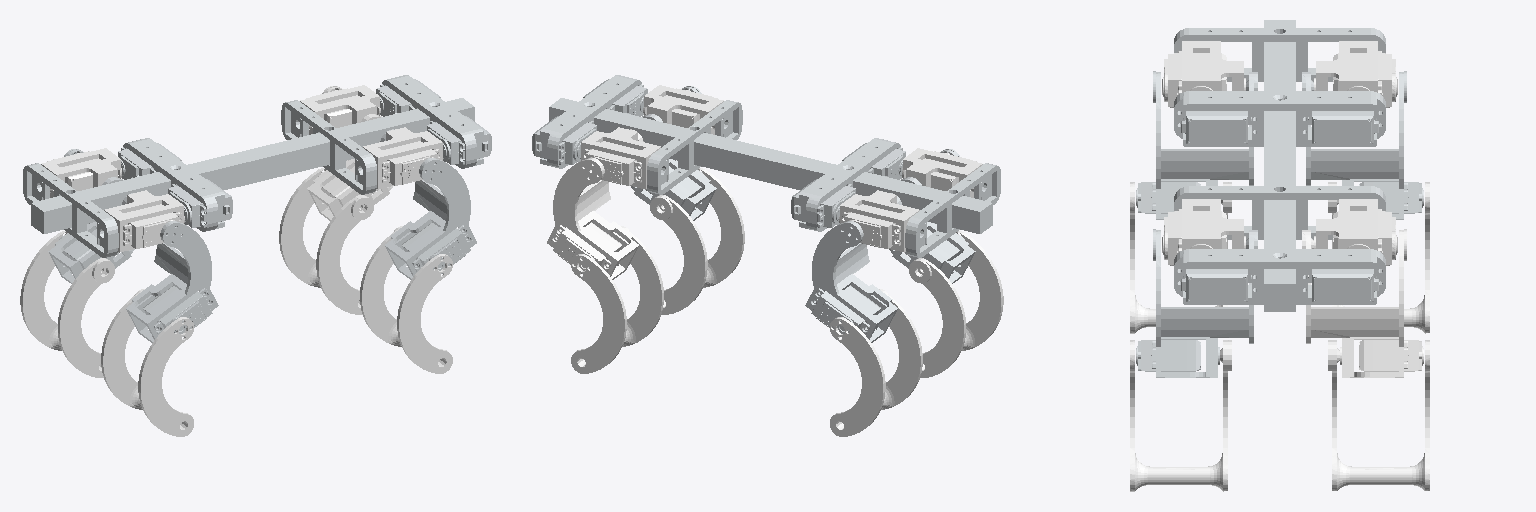
URDF robot description (tiny_quad):
<?xml version="1.0" encoding="utf-8"?>
<!-- This URDF was automatically created by SolidWorks to URDF Exporter! Originally created by [author] ([email redacted]) 
     Commit Version: 1.6.0-1-g15f4949  Build Version: 1.6.7594.29634
     For more information, please see http://wiki.ros.org/sw_urdf_exporter -->



<!-- TODO: Align each leg's joints at y plane for kinematics calculation -->
<robot
  name="tiny_quad">
  <link name="base_footprint" >
    <origin xyz="0.0103120639734149 3.57028601323102E-12 -5.09987831894361E-06" rpy="0 0 0"/>
  </link>
  <link
    name="base_link">
    <inertial>
      <origin
        xyz="0.0103120639734149 3.57028601323102E-12 -5.09987831894361E-06"
        rpy="0 0 0" />
      <mass
        value="0.673746391598589" />
      <inertia
        ixx="0.000240394302807336"
        ixy="4.72346918508225E-15"
        ixz="1.34348270128604E-09"
        iyy="0.00581273765980766"
        iyz="5.80749294518212E-10"
        izz="0.00598610621622578" />
    </inertial>
    <visual>
      <origin
        xyz="0 0 0"
        rpy="0 0 0" />
      <geometry>
        <mesh
          filename="package://tiny_quad/meshes/base_link.STL" />
      </geometry>
      <material
        name="">
        <color
          rgba="0.898039215686275 0.917647058823529 0.929411764705882 1" />
      </material>
    </visual>
    <collision>
      <origin
        xyz="0 0 0"
        rpy="0 0 0" />
      <geometry>
        <mesh
          filename="package://tiny_quad/meshes/base_link.STL" />
      </geometry>
    </collision>
  </link>
  <joint name="base_joint" type="fixed" >
    <origin xyz="0 0 0" rpy="0 0 0" />
    <parent link="base_footprint" />
    <child link="base_link" />
  </joint>
  
  <link
    name="LFS_L">
    <inertial>
      <origin
        xyz="-0.046748 -0.00092972 6.6559E-07"
        rpy="0 0 0" />
      <mass
        value="0.057684" />
      <inertia
        ixx="9.7817E-06"
        ixy="5.1255E-07"
        ixz="1.4506E-10"
        iyy="1.4627E-05"
        iyz="-7.3251E-10"
        izz="1.8457E-05" />
    </inertial>
    <visual>
      <origin
        xyz="0 0 0"
        rpy="0 0 0" />
      <geometry>
        <mesh
          filename="package://tiny_quad/meshes/LFS_L.STL" />
      </geometry>
      <material
        name="">
        <color
          rgba="1 1 1 1" />
      </material>
    </visual>
    <collision>
      <origin
        xyz="0 0 0"
        rpy="0 0 0" />
      <geometry>
        <mesh
          filename="package://tiny_quad/meshes/LFS_L.STL" />
      </geometry>
    </collision>
  </link>
  <joint
    name="LFS_J"
    type="revolute">
    <origin
      xyz="0.15711 0.050443 0"
      rpy="0 0 0" />
    <parent
      link="base_link" />
    <child
      link="LFS_L" />
    <axis
      xyz="1 0 0" />
    <limit
      lower="0"
      upper="1.5708"
      effort="1.0787315"
      velocity="7.48" />
  </joint>
  <link
    name="LFU_L">
    <inertial>
      <origin
        xyz="0.00956780740114901 -0.00266058763780398 -0.0619406808382107"
        rpy="0 0 0" />
      <mass
        value="0.0633248586799827" />
      <inertia
        ixx="4.22733905580439E-05"
        ixy="-3.31314885518861E-08"
        ixz="-4.35470998953999E-06"
        iyy="3.42993494529219E-05"
        iyz="4.30780434477683E-06"
        izz="2.75949415936944E-05" />
    </inertial>
    <visual>
      <origin
        xyz="0 0.01375 0"
        rpy="0 0 0" />
      <geometry>
        <mesh
          filename="package://tiny_quad/meshes/LFU_L.STL" />
      </geometry>
      <material
        name="">
        <color
          rgba="1 1 1 1" />
      </material>
    </visual>
    <collision>
      <origin
        xyz="0 0.01375 0"
        rpy="0 0 0" />
      <geometry>
        <mesh
          filename="package://tiny_quad/meshes/LFU_L.STL" />
      </geometry>
    </collision>
  </link>

  <joint
    name="LFU_J"
    type="revolute">
    <origin
      xyz="-0.037107 0 0"
      rpy="0 0 0" />
    <parent
      link="LFS_L" />
    <child
      link="LFU_L" />
    <axis
      xyz="0 -1 0" />
    <limit
      lower="-1"
      upper="0"
      effort="1.0787315"
      velocity="7.48" />
    <!--mimic
      joint="LFS_J"
      multiplier="1"
      offset="0" /-->
  </joint>

  <link
    name="LFL_L">
    <inertial>
      <origin
        xyz="-0.0126991843001295 -0.0150723539446907 -0.0467923508835542"
        rpy="0 0 0" />
      <mass
        value="0.0247326277403109" />
      <inertia
        ixx="4.21435291889056E-05"
        ixy="4.52141590599905E-07"
        ixz="2.40966499667341E-06"
        iyy="2.82129703259535E-05"
        iyz="1.66567501013991E-06"
        izz="2.20436639521685E-05" />
    </inertial>
    <!-- <visual>
      <origin
        xyz="0 0.0305 0"
        rpy="0 0 0" />
      <geometry>
        <mesh
          filename="package://tiny_quad/meshes/LFL_L.STL" />
      </geometry>
      <material
        name="">
        <color
          rgba="1 1 1 1" />
      </material>
    </visual>
    <collision>
      <origin
        xyz="0 0.0305 0"
        rpy="0 0 0" />
      <geometry>
        <mesh
          filename="package://tiny_quad/meshes/LFL_L.STL" />
      </geometry>
    </collision> -->
  </link>
  <joint
    name="LFL_J"
    type="revolute">
    <origin
      xyz="0 0 -0.078388"
      rpy="0 0 0" />
    <parent
      link="LFU_L" />
    <child
      link="LFL_L" />
    <axis
      xyz="0 -1 0" />
    <limit
      lower="-1.1"
      upper="1.5708"
      effort="1.0787315"
      velocity="7.48" />
    <!--mimic
      joint="LFS_J"
      multiplier="1"
      offset="0" /-->
  </joint>
  <link
    name="LFC_L">
    <inertial>
      <origin
        xyz="-0.0137408449020781 -0.0295642372944374 0.0344451912255238"
        rpy="0 0 0" />
      <mass
        value="0.0228920746333247" />
      <inertia
        ixx="4.20984399971498E-05"
        ixy="4.52141590599904E-07"
        ixz="2.40966499667341E-06"
        iyy="2.81277626908271E-05"
        iyz="1.66567501013991E-06"
        izz="2.19985747604127E-05" />
    </inertial>
    <visual>
      <origin
        xyz="0 0.0425 0"
        rpy="0 0 0" />
      <geometry>
        <mesh
          filename="package://tiny_quad/meshes/LFC_L.STL" />
      </geometry>
      <material
        name="">
        <color
          rgba="1 1 1 1" />
      </material>
    </visual>
    <collision>
      <origin
        xyz="0 0.0425 0"
        rpy="0 0 0" />
      <geometry>
        <mesh
          filename="package://tiny_quad/meshes/LFC_L.STL" />
      </geometry>
    </collision>
  </link>
  <joint
    name="LFC_J"
    type="fixed">
    <origin
      xyz="2.0629E-05 0 -0.085"
      rpy="0 0 0" />
    <parent
      link="LFL_L" />
    <child
      link="LFC_L" />
    <axis
      xyz="0 0 0" />
  </joint>


  
  <link
    name="RFS_L">
    <inertial>
      <origin
        xyz="-0.0467477283228513 0.000929715895879799 -6.65623765903593E-07"
        rpy="0 0 0" />
      <mass
        value="0.0576835055796688" />
      <inertia
        ixx="9.78169162854162E-06"
        ixy="-5.12552767532585E-07"
        ixz="-1.45029050660471E-10"
        iyy="1.46267778399584E-05"
        iyz="-7.32538517650851E-10"
        izz="1.84573794225176E-05" />
    </inertial>
    <visual>
      <origin
        xyz="0 0 0"
        rpy="0 0 0" />
      <geometry>
        <mesh
          filename="package://tiny_quad/meshes/RFS_L.STL" />
      </geometry>
      <material
        name="">
        <color
          rgba="1 1 1 1" />
      </material>
    </visual>
    <collision>
      <origin
        xyz="0 0 0"
        rpy="0 0 0" />
      <geometry>
        <mesh
          filename="package://tiny_quad/meshes/RFS_L.STL" />
      </geometry>
    </collision>
  </link>
  <joint
    name="RFS_J"
    type="revolute">
    <origin
      xyz="0.15711 -0.050443 0"
      rpy="0 0 0" />
    <parent
      link="base_link" />
    <child
      link="RFS_L" />
    <axis
      xyz="1 0 0" />
    <limit
      lower="-1.5708"
      upper="0"
      effort="1.0787315"
      velocity="7.48" />
    <!--mimic
      joint="LFS_J"
      multiplier="1"
      offset="0" /-->
  </joint>
  <link
    name="RFU_L">
    <inertial>
      <origin
        xyz="0.00956728165308311 0.00266058760025918 -0.0619395881245908"
        rpy="0 0 0" />
      <mass
        value="0.0633248589124594" />
      <inertia
        ixx="4.22736181545519E-05"
        ixy="3.24961756510419E-08"
        ixz="-4.35489106692463E-06"
        iyy="3.42993499993469E-05"
        iyz="-4.30648406795787E-06"
        izz="2.75947147528143E-05" />
    </inertial>
    <visual>
      <origin
        xyz="0 -0.01375 0"
        rpy="0 0 0" />
      <geometry>
        <mesh
          filename="package://tiny_quad/meshes/RFU_L.STL" />
      </geometry>
      <material
        name="">
        <color
          rgba="0.898039215686275 0.917647058823529 0.929411764705882 1" />
      </material>
    </visual>
    <collision>
      <origin
        xyz="0 -0.01375 0"
        rpy="0 0 0" />
      <geometry>
        <mesh
          filename="package://tiny_quad/meshes/RFU_L.STL" />
      </geometry>
    </collision>
  </link>
  <joint
    name="RFU_J"
    type="revolute">
    <origin
      xyz="-0.037107 0 0"
      rpy="0 0 0" />
    <parent
      link="RFS_L" />
    <child
      link="RFU_L" />
    <axis
      xyz="0 1 0" />
    <limit
      lower="0"
      upper="1.1"
      effort="1.0787315"
      velocity="7.48" />
    <!--mimic
      joint="LFS_J"
      multiplier="1"
      offset="0" /-->
  </joint>
  <link
    name="RFL_L">
    <inertial>
      <origin
        xyz="-0.0127020493228516 0.0150724859124731 -0.0467927203950964"
        rpy="0 0 0" />
      <mass
        value="0.0247329300871079" />
      <inertia
        ixx="4.21439137772161E-05"
        ixy="-4.52171756192475E-07"
        ixz="2.4097951023571E-06"
        iyy="2.82133292880761E-05"
        iyz="-1.66560968972201E-06"
        izz="2.20437476815741E-05" />
    </inertial>
    <!-- <visual>
      <origin
        xyz="0 -0.0305 0"
        rpy="0 0 0" />
      <geometry>
        <mesh
          filename="package://tiny_quad/meshes/RFL_L.STL" />
      </geometry>
      <material
        name="">
        <color
          rgba="1 1 1 1" />
      </material>
    </visual>
    <collision>
      <origin
        xyz="0 -0.0305 0"
        rpy="0 0 0" />
      <geometry>
        <mesh
          filename="package://tiny_quad/meshes/RFL_L.STL" />
      </geometry>
    </collision> -->
  </link>
  <joint
    name="RFL_J"
    type="revolute">
    <origin
      xyz="0 0 -0.078391"
      rpy="0 0 0" />
    <parent
      link="RFU_L" />
    <child
      link="RFL_L" />
    <axis
      xyz="0 -1 0" />
    <limit
      lower="-1.1"
      upper="1.5708"
      effort="1.0787315"
      velocity="7.48" />
    <!--mimic
      joint="LFS_J"
      multiplier="1"
      offset="0" /-->
  </joint>
  <link
    name="RFC_L">
    <inertial>
      <origin
        xyz="-0.01374266106702 0.0295643469613797 0.0344451304198886"
        rpy="0 0 0" />
      <mass
        value="0.0228923769801217" />
      <inertia
        ixx="4.20988245854602E-05"
        ixy="-4.52171756192474E-07"
        ixz="2.4097951023571E-06"
        iyy="2.81281216529497E-05"
        iyz="-1.66560968972201E-06"
        izz="2.19986584898183E-05" />
    </inertial>
    <visual>
      <origin
        xyz="0 -0.0425 0"
        rpy="0 0 0" />
      <geometry>
        <mesh
          filename="package://tiny_quad/meshes/RFC_L.STL" />
      </geometry>
      <material
        name="">
        <color
          rgba="1 1 1 1" />
      </material>
    </visual>
    <collision>
      <origin
        xyz="0 -0.0425 0"
        rpy="0 0 0" />
      <geometry>
        <mesh
          filename="package://tiny_quad/meshes/RFC_L.STL" />
      </geometry>
    </collision>
  </link>
  <joint
    name="RFC_J"
    type="fixed">
    <origin
      xyz="1.9364E-05 0 -0.085"
      rpy="0 0 0" />
    <parent
      link="RFL_L" />
    <child
      link="RFC_L" />
    <axis
      xyz="0 0 0" />
  </joint>
  <link
    name="LBS_L">
    <inertial>
      <origin
        xyz="-0.0467477273751706 -0.000929715818435276 6.65585065478178E-07"
        rpy="0 0 0" />
      <mass
        value="0.0576835087052566" />
      <inertia
        ixx="9.78169184254293E-06"
        ixy="5.12552426949938E-07"
        ixz="1.45061250834949E-10"
        iyy="1.46267788369663E-05"
        iyz="-7.3251452299274E-10"
        izz="1.84573804594289E-05" />
    </inertial>
    <visual>
      <origin
        xyz="0 0 0"
        rpy="0 0 0" />
      <geometry>
        <mesh
          filename="package://tiny_quad/meshes/LBS_L.STL" />
      </geometry>
      <material
        name="">
        <color
          rgba="1 1 1 1" />
      </material>
    </visual>
    <collision>
      <origin
        xyz="0 0 0"
        rpy="0 0 0" />
      <geometry>
        <mesh
          filename="package://tiny_quad/meshes/LBS_L.STL" />
      </geometry>
    </collision>
  </link>
  <joint
    name="LBS_J"
    type="revolute">
    <origin
      xyz="-0.082893 0.050443 0"
      rpy="0 0 0" />
    <parent
      link="base_link" />
    <child
      link="LBS_L" />
    <axis
      xyz="1 0 0" />
    <limit
      lower="0"
      upper="1.5708"
      effort="1.0787315"
      velocity="7.48" />
    <!--mimic
      joint="LFS_J"
      multiplier="1"
      offset="0" /-->
  </joint>
  <link
    name="LBU_L">
    <inertial>
      <origin
        xyz="0.00956780741467889 -0.00266058763780398 -0.0619406808045094"
        rpy="0 0 0" />
      <mass
        value="0.0633248585974313" />
      <inertia
        ixx="4.22733905380336E-05"
        ixy="-3.31314945442806E-08"
        ixz="-4.35470997716578E-06"
        iyy="3.42993494286409E-05"
        iyz="4.3078043364392E-06"
        izz="2.75949415811241E-05" />
    </inertial>
    <visual>
      <origin
        xyz="0 0.01375 0"
        rpy="0 0 0" />
      <geometry>
        <mesh
          filename="package://tiny_quad/meshes/LBU_L.STL" />
      </geometry>
      <material
        name="">
        <color
          rgba="0.898039215686275 0.917647058823529 0.929411764705882 1" />
      </material>
    </visual>
    <collision>
      <origin
        xyz="0 0.01375 0"
        rpy="0 0 0" />
      <geometry>
        <mesh
          filename="package://tiny_quad/meshes/LBU_L.STL" />
      </geometry>
    </collision>
  </link>
  <joint
    name="LBU_J"
    type="revolute">
    <origin
      xyz="-0.037107 0 0"
      rpy="0 0 0" />
    <parent
      link="LBS_L" />
    <child
      link="LBU_L" />
    <axis
      xyz="0 1 0" />
    <limit
      lower="0"
      upper="1"
      effort="1.0787315"
      velocity="7.48" />
    <!--mimic
      joint="LFS_J"
      multiplier="1"
      offset="0" /-->
  </joint>
  <link
    name="LBL_L">
    <inertial>
      <origin
        xyz="-0.0126991843001295 -0.0150723539446907 -0.0467923508835543"
        rpy="0 0 0" />
      <mass
        value="0.024732627740311" />
      <inertia
        ixx="4.21435291889057E-05"
        ixy="4.52141590599917E-07"
        ixz="2.40966499667343E-06"
        iyy="2.82129703259536E-05"
        iyz="1.66567501013991E-06"
        izz="2.20436639521686E-05" />
    </inertial>
    <!-- <visual>
      <origin
        xyz="0 0.0305 0"
        rpy="0 0 0" />
      <geometry>
        <mesh
          filename="package://tiny_quad/meshes/LBL_L.STL" />
      </geometry>
      <material
        name="">
        <color
          rgba="1 1 1 1" />
      </material>
    </visual>
    <collision>
      <origin
        xyz="0 0.0305 0"
        rpy="0 0 0" />
      <geometry>
        <mesh
          filename="package://tiny_quad/meshes/LBL_L.STL" />
      </geometry>
    </collision> -->
  </link>
  <joint
    name="LBL_J"
    type="revolute">
    <origin
      xyz="0 0 -0.078388"
      rpy="0 0 0" />
    <parent
      link="LBU_L" />
    <child
      link="LBL_L" />
    <axis
      xyz="0 1 0" />
    <limit
      lower="-1.5708"
      upper="1.1"
      effort="1.0787315"
      velocity="7.48" />
    <!--mimic
      joint="LFS_J"
      multiplier="1"
      offset="0" /-->
  </joint>
  <link
    name="LBC_L">
    <inertial>
      <origin
        xyz="-0.0137408449020781 -0.0295642372944374 0.0344451912255238"
        rpy="0 0 0" />
      <mass
        value="0.0228920746333248" />
      <inertia
        ixx="4.20984399971499E-05"
        ixy="4.52141590599917E-07"
        ixz="2.40966499667343E-06"
        iyy="2.81277626908272E-05"
        iyz="1.66567501013991E-06"
        izz="2.19985747604127E-05" />
    </inertial>
    <visual>
      <origin
        xyz="0 0.0425 0"
        rpy="0 0 0" />
      <geometry>
        <mesh
          filename="package://tiny_quad/meshes/LBC_L.STL" />
      </geometry>
      <material
        name="">
        <color
          rgba="1 1 1 1" />
      </material>
    </visual>
    <collision>
      <origin
        xyz="0 0.0425 0"
        rpy="0 0 0" />
      <geometry>
        <mesh
          filename="package://tiny_quad/meshes/LBC_L.STL" />
      </geometry>
    </collision>
  </link>
  <joint
    name="LBC_J"
    type="fixed">
    <origin
      xyz="2.0629E-05 0 -0.085"
      rpy="0 0 0" />
    <parent
      link="LBL_L" />
    <child
      link="LBC_L" />
    <axis
      xyz="0 0 0" />
  </joint>
  <link
    name="RBS_L">
    <inertial>
      <origin
        xyz="-0.0467477283228513 0.000929715895879799 -6.65623765903593E-07"
        rpy="0 0 0" />
      <mass
        value="0.0576835055796688" />
      <inertia
        ixx="9.78169162854162E-06"
        ixy="-5.12552767532585E-07"
        ixz="-1.45029050660471E-10"
        iyy="1.46267778399584E-05"
        iyz="-7.32538517650851E-10"
        izz="1.84573794225176E-05" />
    </inertial>
    <visual>
      <origin
        xyz="0 0 0"
        rpy="0 0 0" />
      <geometry>
        <mesh
          filename="package://tiny_quad/meshes/RBS_L.STL" />
      </geometry>
      <material
        name="">
        <color
          rgba="1 1 1 1" />
      </material>
    </visual>
    <collision>
      <origin
        xyz="0 0 0"
        rpy="0 0 0" />
      <geometry>
        <mesh
          filename="package://tiny_quad/meshes/RBS_L.STL" />
      </geometry>
    </collision>
  </link>
  <joint
    name="RBS_J"
    type="revolute">
    <origin
      xyz="-0.082893 -0.050443 0"
      rpy="0 0 0" />
    <parent
      link="base_link" />
    <child
      link="RBS_L" />
    <axis
      xyz="-1 0 0" />
    <limit
      lower="0"
      upper="1.5708"
      effort="1.0787315"
      velocity="7.48" />
    <!--mimic
      joint="LFS_J"
      multiplier="1"
      offset="0" /-->
  </joint>
  <link
    name="RBU_L">
    <inertial>
      <origin
        xyz="0.00956728165308314 0.00266058760025913 -0.0619395881245907"
        rpy="0 0 0" />
      <mass
        value="0.0633248589124593" />
      <inertia
        ixx="4.22736181545518E-05"
        ixy="3.2496175651044E-08"
        ixz="-4.35489106692463E-06"
        iyy="3.42993499993469E-05"
        iyz="-4.30648406795788E-06"
        izz="2.75947147528142E-05" />
    </inertial>
    <visual>
      <origin
        xyz="0 -0.01375 0"
        rpy="0 0 0" />
      <geometry>
        <mesh
          filename="package://tiny_quad/meshes/RBU_L.STL" />
      </geometry>
      <material
        name="">
        <color
          rgba="0.898039215686275 0.917647058823529 0.929411764705882 1" />
      </material>
    </visual>
    <collision>
      <origin
        xyz="0 -0.01375 0"
        rpy="0 0 0" />
      <geometry>
        <mesh
          filename="package://tiny_quad/meshes/RBU_L.STL" />
      </geometry>
    </collision>
  </link>
  <joint
    name="RBU_J"
    type="revolute">
    <origin
      xyz="-0.037107 0 0"
      rpy="0 0 0" />
    <parent
      link="RBS_L" />
    <child
      link="RBU_L" />
    <axis
      xyz="0 -1 0" />
    <limit
      lower="-1.1"
      upper="0"
      effort="1.0787315"
      velocity="7.48" />
    <!--mimic
      joint="LFS_J"
      multiplier="1"
      offset="0" /-->
  </joint>
  <link
    name="RBL_L">
    <inertial>
      <origin
        xyz="-0.0127020493228516 0.015072485912473 -0.0467927203950962"
        rpy="0 0 0" />
      <mass
        value="0.0247329300871078" />
      <inertia
        ixx="4.21439137772162E-05"
        ixy="-4.52171756192474E-07"
        ixz="2.40979510235706E-06"
        iyy="2.82133292880762E-05"
        iyz="-1.66560968972197E-06"
        izz="2.20437476815741E-05" />
    </inertial>
    <!-- <visual>
      <origin
        xyz="0 -0.0305 0"
        rpy="0 0 0" />
      <geometry>
        <mesh
          filename="package://tiny_quad/meshes/RBL_L.STL" />
      </geometry>
      <material
        name="">
        <color
          rgba="1 1 1 1" />
      </material>
    </visual>
    <collision>
      <origin
        xyz="0 -0.0305 0"
        rpy="0 0 0" />
      <geometry>
        <mesh
          filename="package://tiny_quad/meshes/RBL_L.STL" />
      </geometry>
    </collision> -->
  </link>
  <joint
    name="RBL_J"
    type="revolute">
    <origin
      xyz="0 0 -0.078391"
      rpy="0 0 0" />
    <parent
      link="RBU_L" />
    <child
      link="RBL_L" />
    <axis
      xyz="0 -1 0" />
    <limit
      lower="-1.1"
      upper="1.5708"
      effort="1.0787315"
      velocity="7.48" />
    <!--mimic
      joint="LFS_J"
      multiplier="1"
      offset="0" /-->
  </joint>
  <link
    name="RBC_L">
    <inertial>
      <origin
        xyz="-0.01374266106702 0.0295643469613797 0.0344451304198887"
        rpy="0 0 0" />
      <mass
        value="0.0228923769801216" />
      <inertia
        ixx="4.20988245854603E-05"
        ixy="-4.52171756192474E-07"
        ixz="2.40979510235706E-06"
        iyy="2.81281216529498E-05"
        iyz="-1.66560968972197E-06"
        izz="2.19986584898183E-05" />
    </inertial>
    <visual>
      <origin
        xyz="0 -0.0425 0"
        rpy="0 0 0" />
      <geometry>
        <mesh
          filename="package://tiny_quad/meshes/RBC_L.STL" />
      </geometry>
      <material
        name="">
        <color
          rgba="1 1 1 1" />
      </material>
    </visual>
    <collision>
      <origin
        xyz="0 -0.0425 0"
        rpy="0 0 0" />
      <geometry>
        <mesh
          filename="package://tiny_quad/meshes/RBC_L.STL" />
      </geometry>
    </collision>
  </link>
  <joint
    name="RBC_J"
    type="fixed">
    <origin
      xyz="1.9364E-05 0 -0.085"
      rpy="0 0 0" />
    <parent
      link="RBL_L" />
    <child
      link="RBC_L" />
    <axis
      xyz="0 0 0" />
  </joint>
</robot>

--- What the picture shows (computed from the rendered views, not written in the file) ---
3 views of the same robot in one strip: view 1: azimuth 30°, elevation 25°; view 2: azimuth 150°, elevation 25°; view 3: azimuth 270°, elevation 25° (orthographic).
Model tiny_quad with 18 links and 17 joints (12 revolute, 5 fixed), rooted at base_footprint, posed every joint at zero.
Links seen in each view (by area): view 1: base_link, RFU_L, RBU_L, LFC_L, RFC_L, LBC_L, RBC_L, RFS_L, RBS_L, LBS_L, LFS_L, LBU_L (+1 smaller); view 2: base_link, LFU_L, LBU_L, RFC_L, LFC_L, RBC_L, LBC_L, LFS_L, LBS_L, RBS_L, RFS_L, RBU_L (+1 smaller); view 3: base_link, LFU_L, RFU_L, LBU_L, RBU_L, LFS_L, RFS_L, LBS_L, RBS_L, RFC_L, LFC_L, RBC_L (+1 smaller).
Link boxes in pixels (x1,y1,x2,y2): base_link: [23, 75, 491, 257]; RFU_L: [380, 129, 476, 279]; RBU_L: [122, 193, 218, 342]; LFC_L: [279, 168, 373, 314]; RFC_L: [360, 226, 452, 373]; LBC_L: [20, 231, 114, 377]; RBC_L: [101, 289, 193, 436]; RFS_L: [363, 127, 442, 189]; RBS_L: [104, 190, 184, 252]; LBS_L: [41, 148, 121, 197]; LFS_L: [300, 85, 380, 134]; LBU_L: [48, 149, 134, 283]; base_link: [532, 75, 1000, 257]; LFU_L: [547, 129, 643, 279]; LBU_L: [805, 193, 901, 342]; RFC_L: [650, 168, 744, 314]; LFC_L: [571, 226, 663, 373]; RBC_L: [909, 231, 1003, 377]; LBC_L: [830, 289, 922, 436]; LFS_L: [581, 127, 660, 189]; LBS_L: [839, 190, 919, 252]; RBS_L: [902, 148, 982, 197]; RFS_L: [643, 85, 723, 134]; RBU_L: [889, 149, 975, 283]; base_link: [1174, 20, 1385, 311]; LFU_L: [1302, 229, 1423, 377]; RFU_L: [1136, 229, 1257, 377]; LBU_L: [1302, 71, 1423, 219]; RBU_L: [1136, 71, 1257, 219]; LFS_L: [1314, 199, 1397, 265]; RFS_L: [1162, 199, 1245, 265]; LBS_L: [1314, 41, 1397, 107]; RBS_L: [1162, 41, 1245, 107]; RFC_L: [1130, 340, 1231, 491]; LFC_L: [1328, 340, 1429, 490]; RBC_L: [1130, 182, 1231, 333].
Bounding box of the posed robot: 0.4 × 0.1929 × 0.1901 m (x, y, z).
Meshes: 13 distinct files referenced, 13 mesh visuals loaded (13 binary STL).
